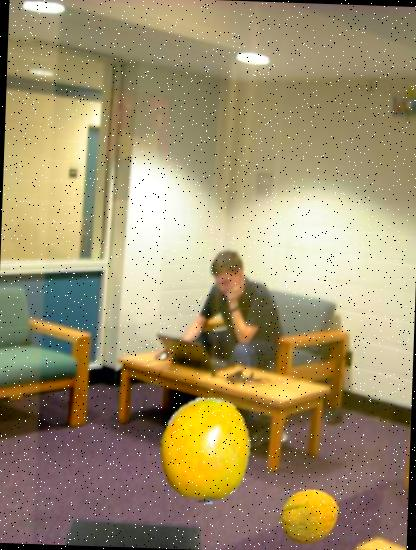Cantaloupe: (280, 486, 341, 548)
Maracuja: (150, 395, 261, 506)
